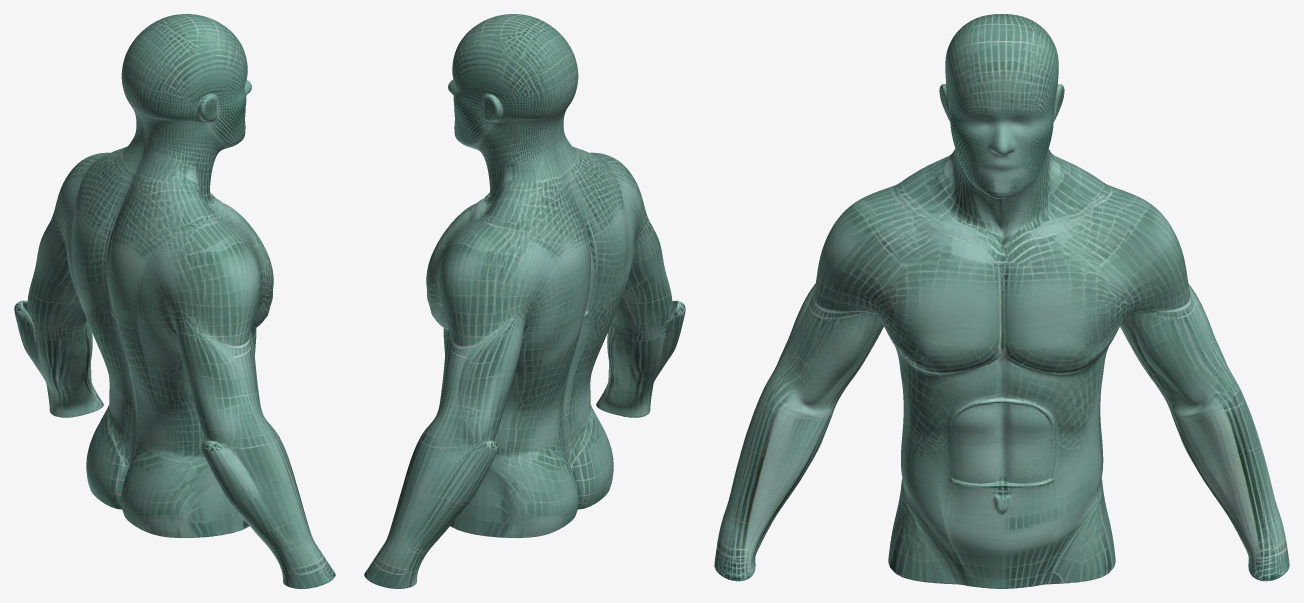
Rendered from man-comp.glb.
The picture shows the model from 3 angles, left to right: view 1: azimuth 30°, elevation 25°; view 2: azimuth 150°, elevation 25°; view 3: azimuth 270°, elevation 25°; orthographic projection. The views are drawn at different scales.
Parts seen in each view (by area): view 1: tripo_node_7977997a-4bb0-41bd-8e01-2770658a68ae; view 2: tripo_node_7977997a-4bb0-41bd-8e01-2770658a68ae; view 3: tripo_node_7977997a-4bb0-41bd-8e01-2770658a68ae.
Part boxes in pixels (bbox=[...]): tripo_node_7977997a-4bb0-41bd-8e01-2770658a68ae: bbox=[14, 14, 335, 588]; tripo_node_7977997a-4bb0-41bd-8e01-2770658a68ae: bbox=[364, 14, 685, 588]; tripo_node_7977997a-4bb0-41bd-8e01-2770658a68ae: bbox=[714, 14, 1289, 588].
Size of the model in its own units: 0.3368 by 1 by 0.9611.
1 material, 1 textured.
